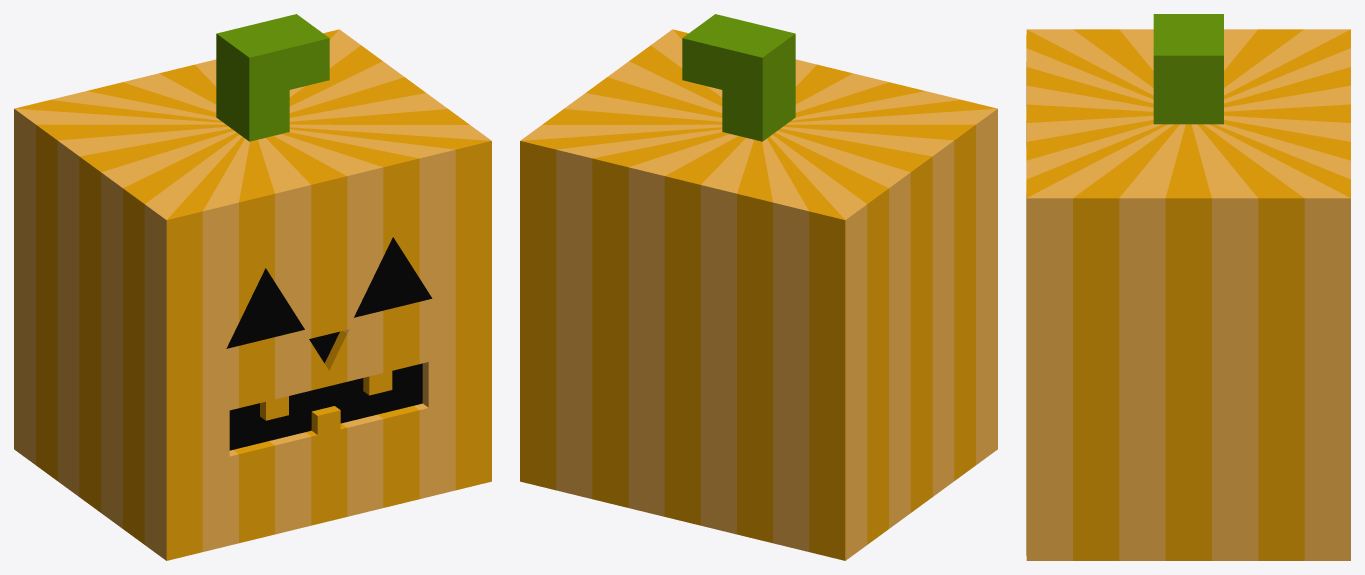
File: Ch_48@Ready.FBX
The picture shows the model from 3 angles, left to right: view 1: azimuth 30°, elevation 25°; view 2: azimuth 150°, elevation 25°; view 3: azimuth 270°, elevation 25°; orthographic projection. The views are drawn at different scales.
Visible parts, largest first — view 1: Ch_48; view 2: Ch_48; view 3: Ch_48.
Part boxes in pixels (x1,y1,x2,y2): Ch_48: (14, 14, 491, 560); Ch_48: (520, 14, 997, 560); Ch_48: (1026, 14, 1350, 560).
Size of the model in its own units: 7.68 by 9.58 by 6.24.
